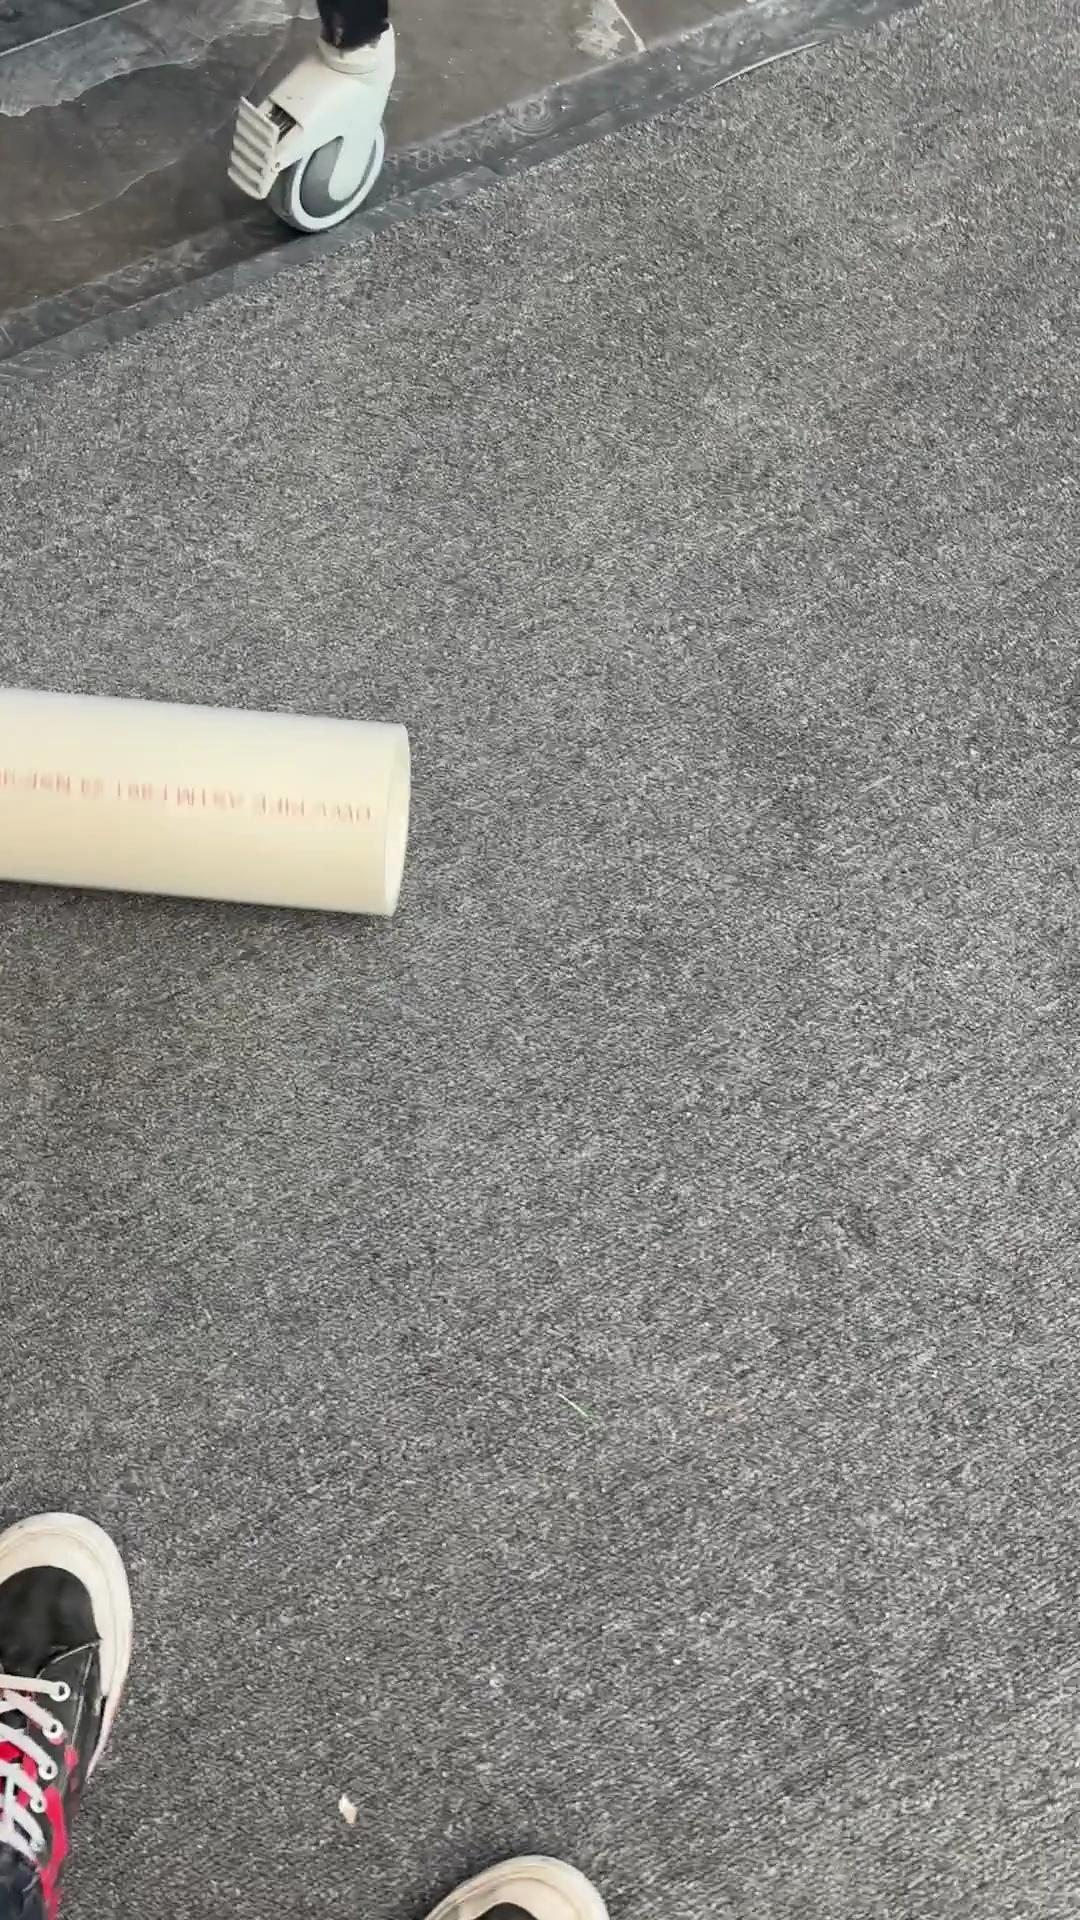CORAL: (1, 680, 411, 919), (224, 15, 397, 233)
